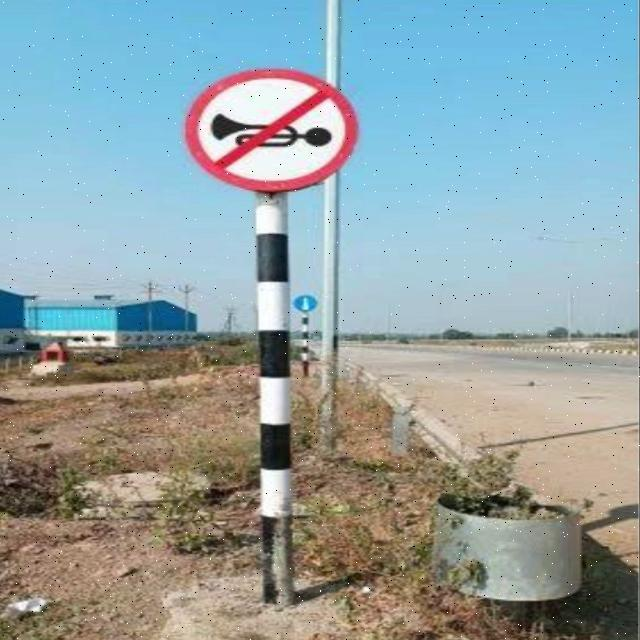No_Horn: (186, 72, 354, 194)
